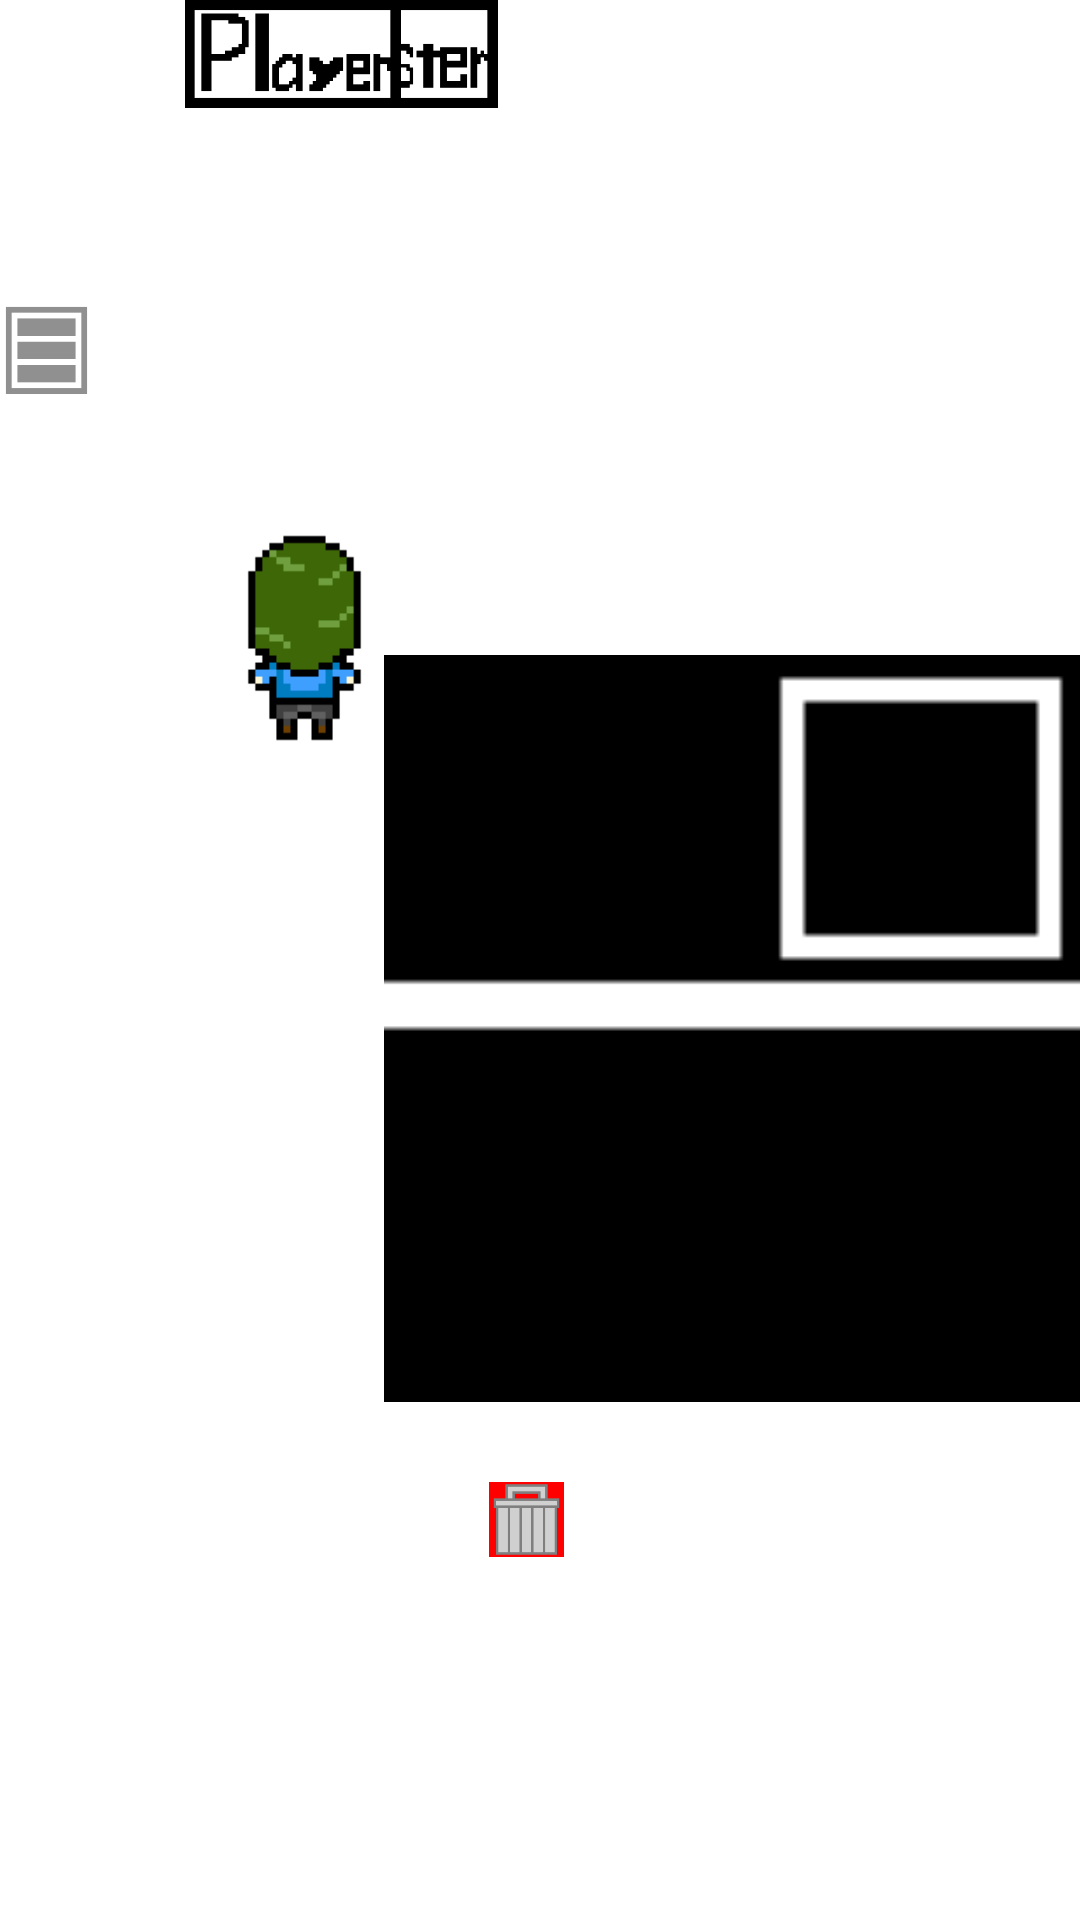

Screen size 1080 x 1920. Icon name, then its box in pixels as (x1, y1, x2, y2):
garbage: (489, 1482, 564, 1557)
inventry: (6, 307, 87, 394)
player over: (248, 535, 361, 741)
